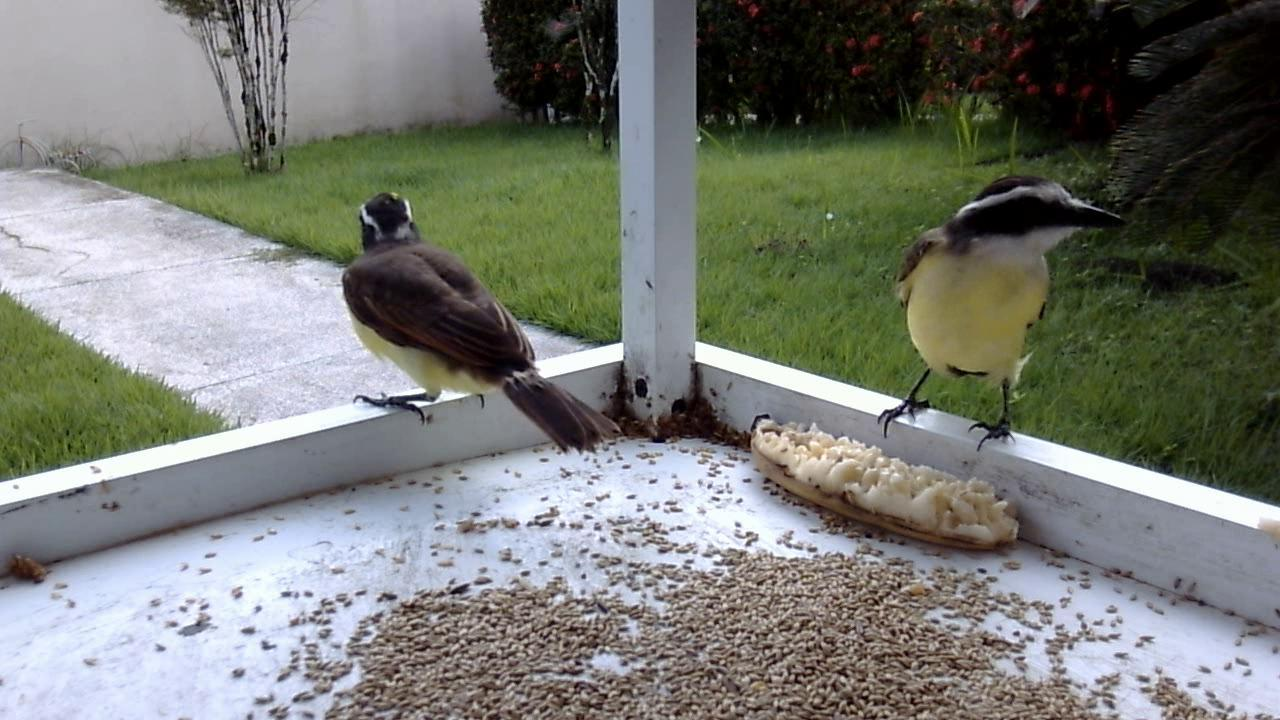bem_te_vi: (325, 187, 622, 460), (864, 164, 1122, 464)
